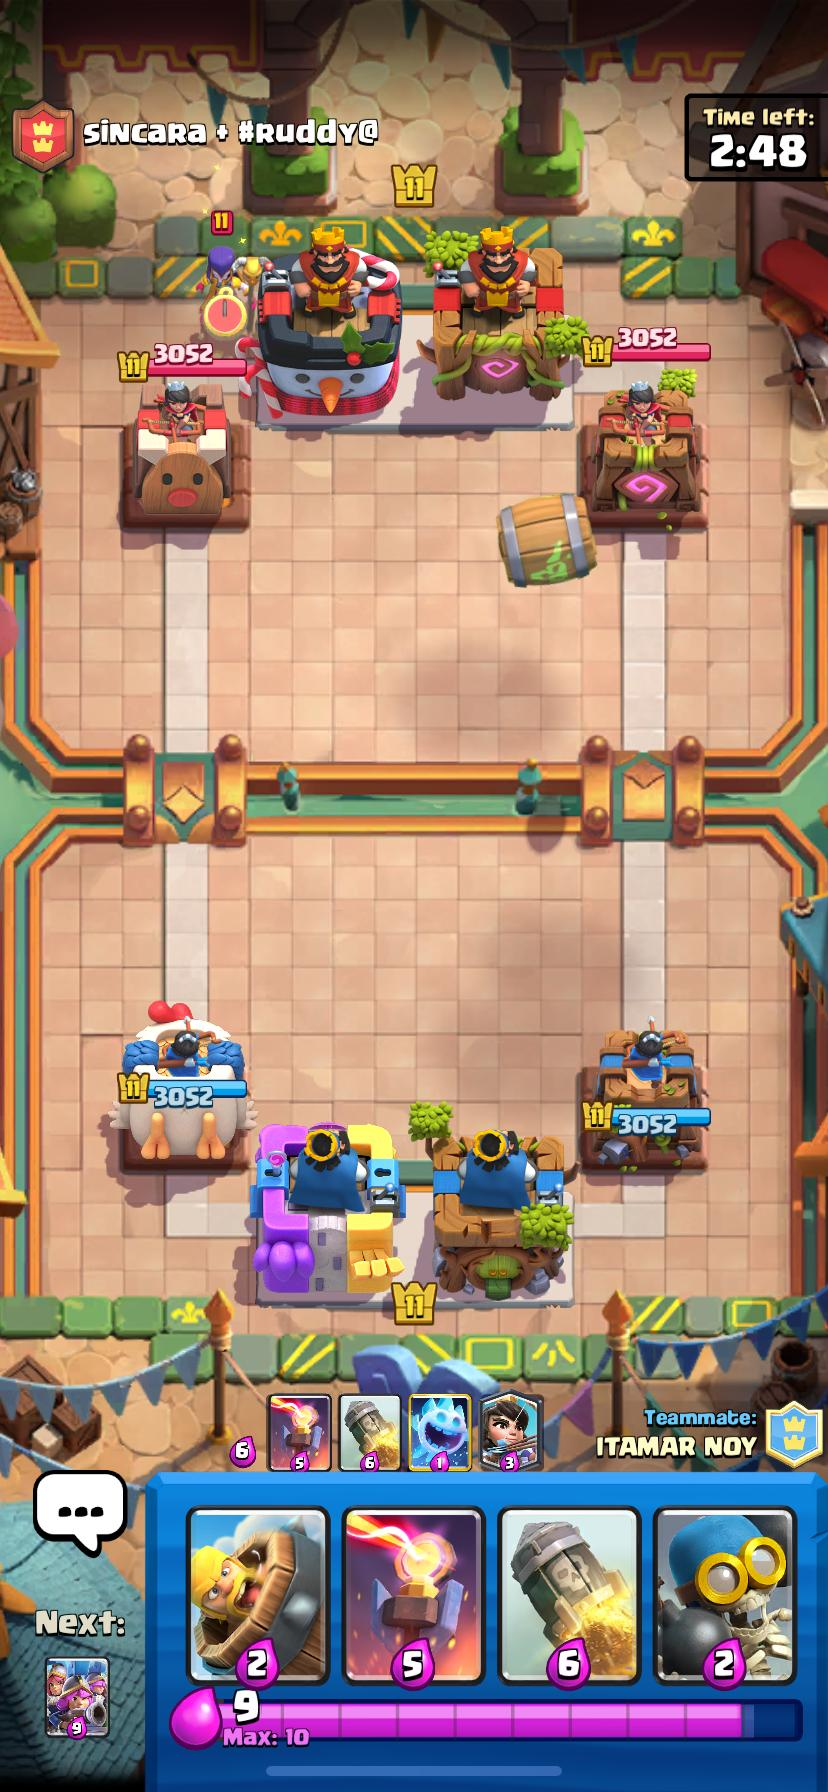EKingTower: (256, 225, 401, 419), (419, 226, 578, 401)
EWitch: (196, 245, 261, 296)
EnemyPrincessTower: (580, 381, 706, 529), (124, 383, 247, 527)
OGoblinBarrel: (497, 493, 596, 586)
OwnKingTower: (250, 1123, 404, 1302), (433, 1130, 572, 1299)
OwnPrincessTower: (110, 1002, 254, 1160), (580, 1022, 710, 1171)
